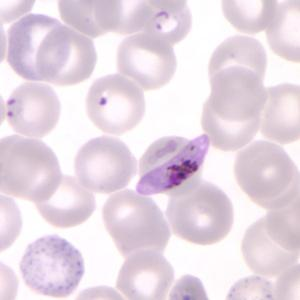Infected: (135, 133, 211, 196), (6, 80, 60, 137), (130, 0, 192, 45)
Uninfected: (34, 25, 98, 86), (168, 185, 235, 243), (241, 214, 300, 279), (3, 136, 61, 200), (74, 135, 138, 192), (234, 140, 294, 200), (35, 172, 96, 231), (116, 33, 179, 89), (84, 75, 145, 132), (203, 95, 261, 151), (103, 192, 163, 245), (208, 36, 268, 85), (118, 249, 175, 300), (261, 85, 300, 146), (267, 0, 300, 68), (221, 0, 278, 34)
